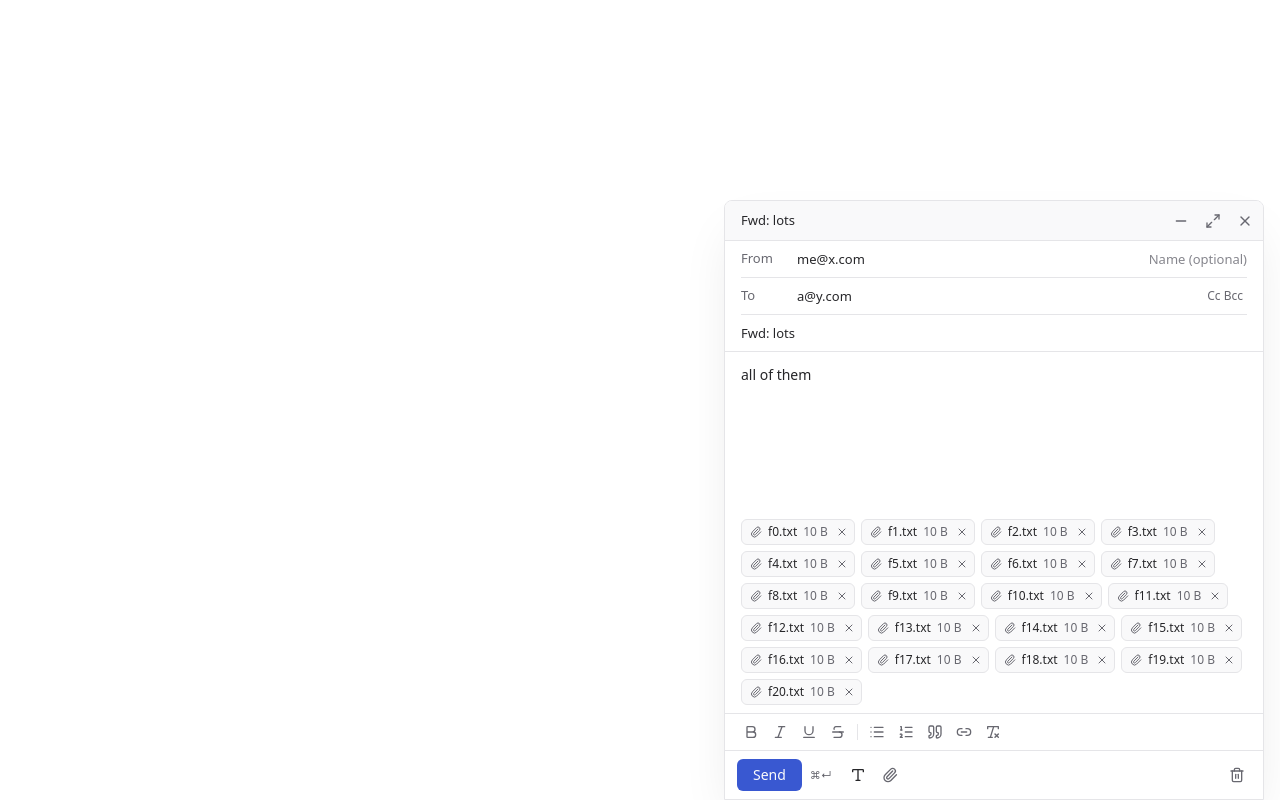
it: ComposeWindow — sending › counts forwarded files against the attachment cap
The width and height of the screenshot is (1280, 800).
Click the button "Send" at (769, 775), box x1=737 y1=759 x2=802 y2=791
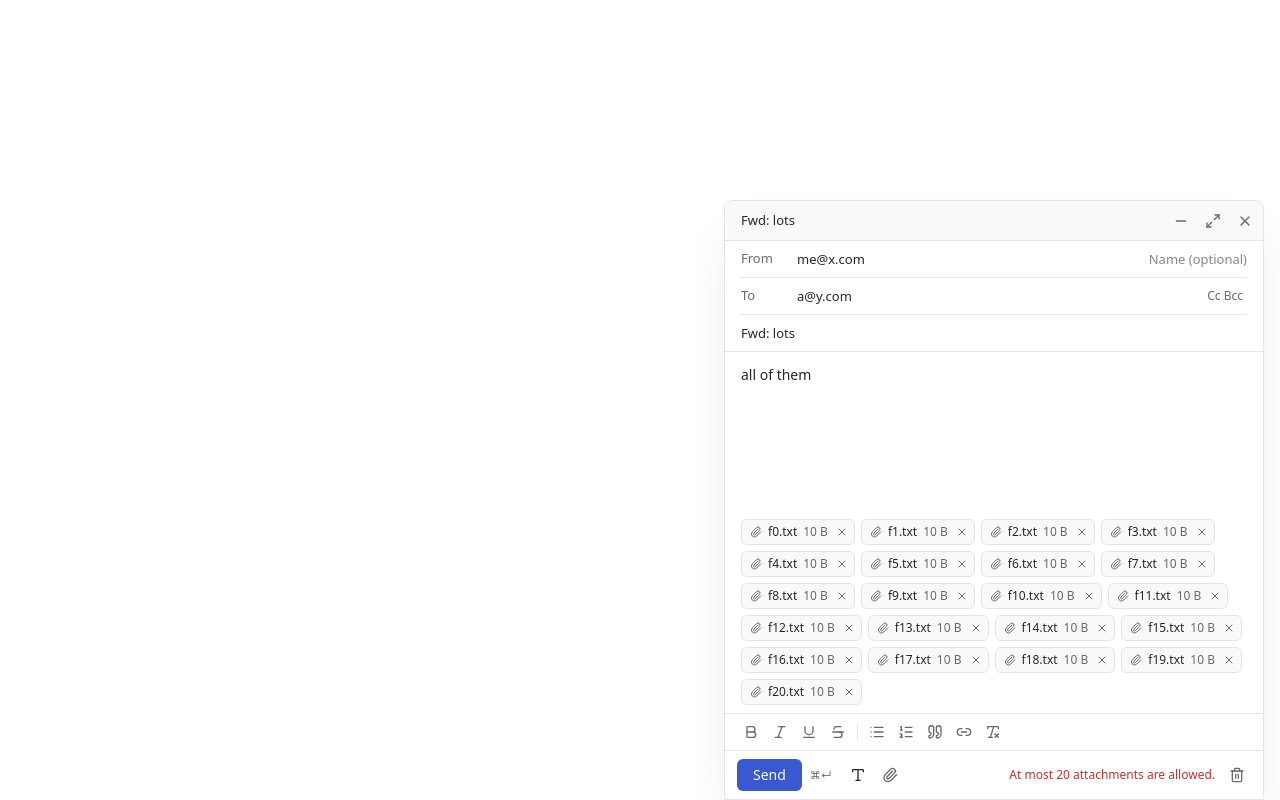
Check: the message shows "At most 20 attachments", box x1=1009 y1=766 x2=1215 y2=783
